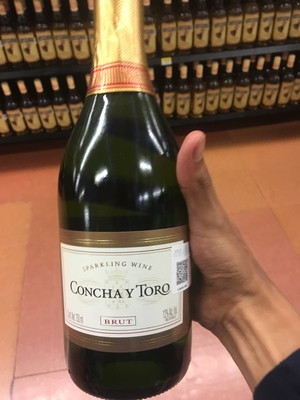brut: (57, 2, 192, 386)
